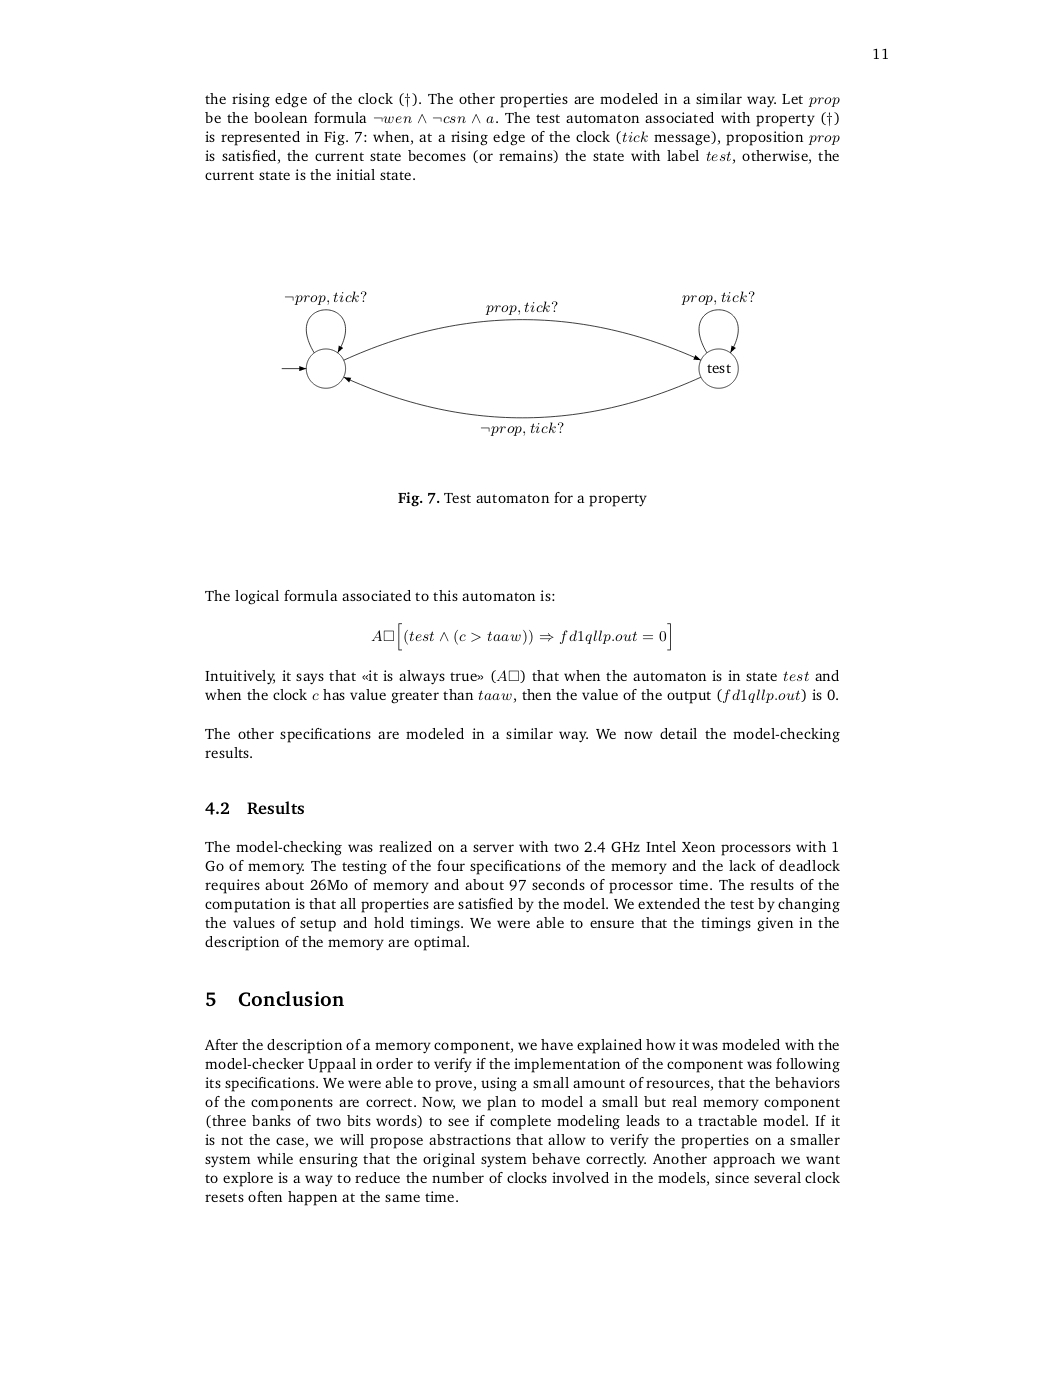figure: (281, 290, 755, 436)
formula: (371, 622, 670, 651)
